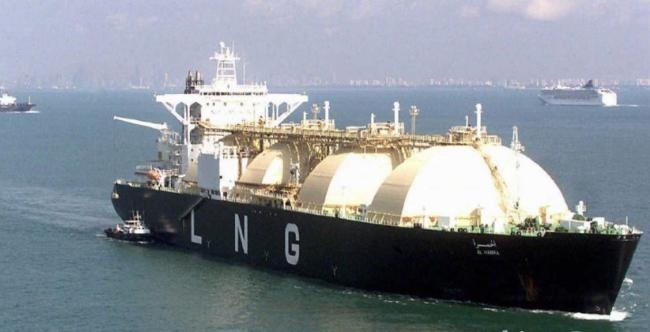Cargoship: (113, 45, 639, 319)
otherboat: (96, 205, 156, 245)
youlun: (532, 76, 621, 108)
